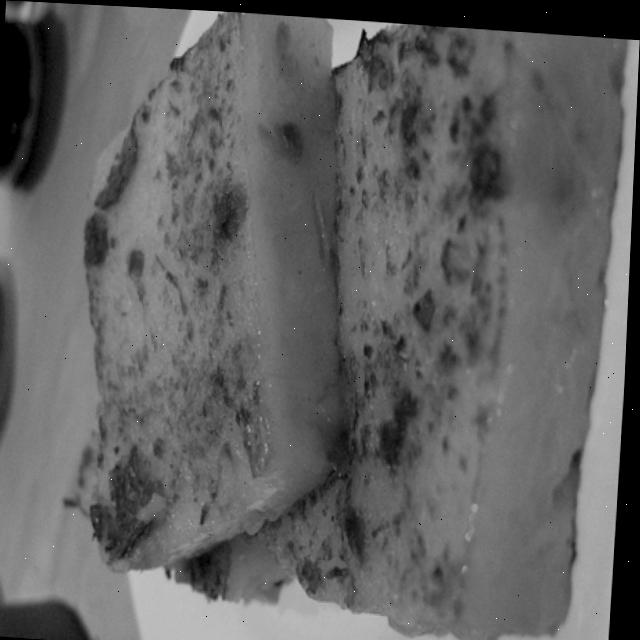蛋糕甜品: (14, 1, 635, 640)
